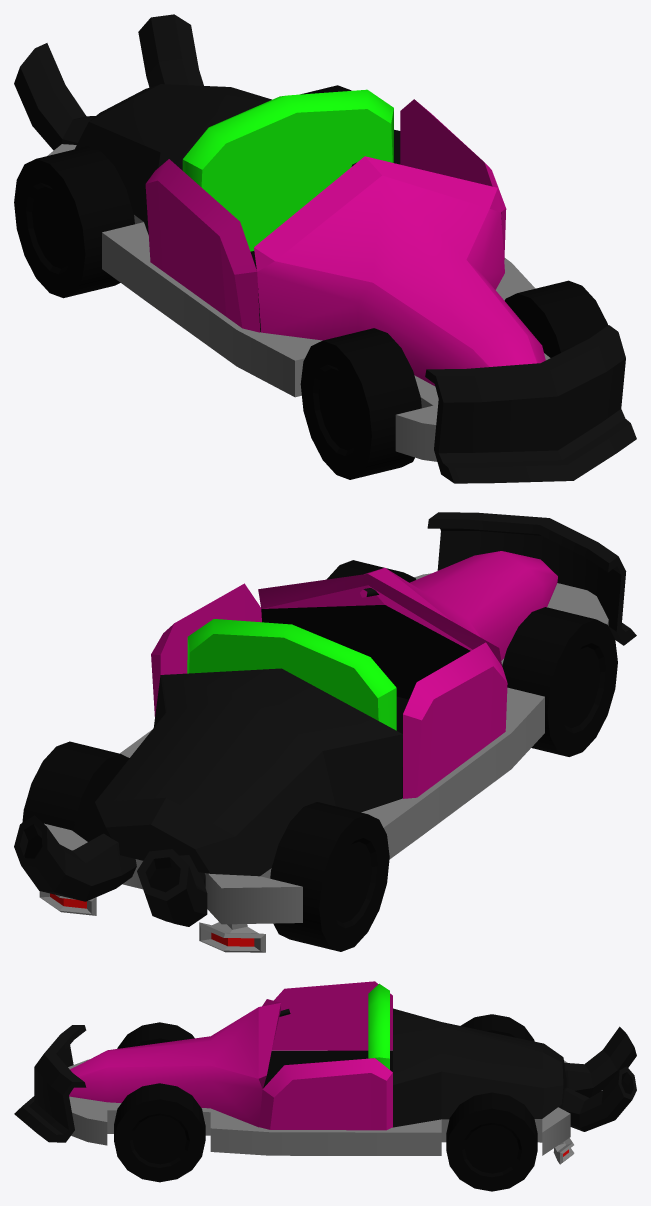
Rendered from car-parsche-sport-green_13.fbx.
3 renders of one model, top to bottom at view 1: azimuth 30°, elevation 25°; view 2: azimuth 150°, elevation 25°; view 3: azimuth 270°, elevation 25°, orthographic. The views are drawn at different scales.
Visible parts, largest first — view 1: car-parsche-sport-green_13; view 2: car-parsche-sport-green_13; view 3: car-parsche-sport-green_13.
Part boxes in pixels (box(x1,y1,x2,y2)): car-parsche-sport-green_13: box(14, 14, 636, 483); car-parsche-sport-green_13: box(14, 512, 636, 952); car-parsche-sport-green_13: box(14, 981, 636, 1191).
Bounding box in the file's own units: 0.8508 × 2.37 × 0.6071.
